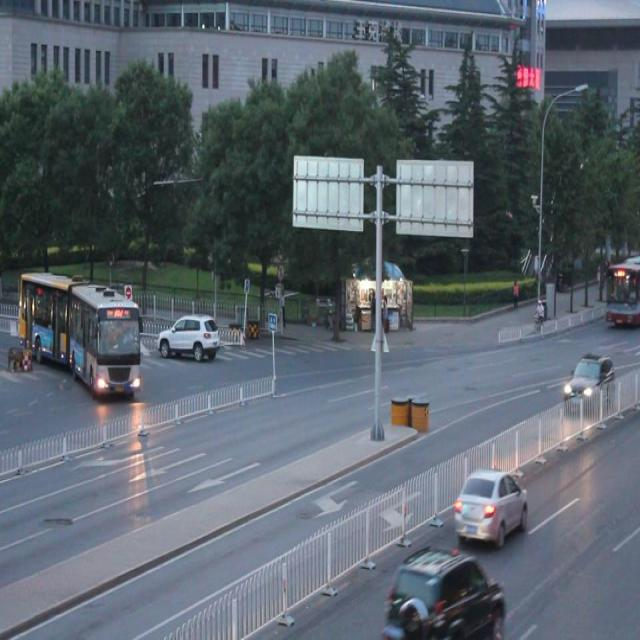car: (384, 546, 503, 640), (452, 465, 528, 545), (561, 352, 614, 409), (158, 315, 220, 362)
van: (19, 268, 140, 392)
